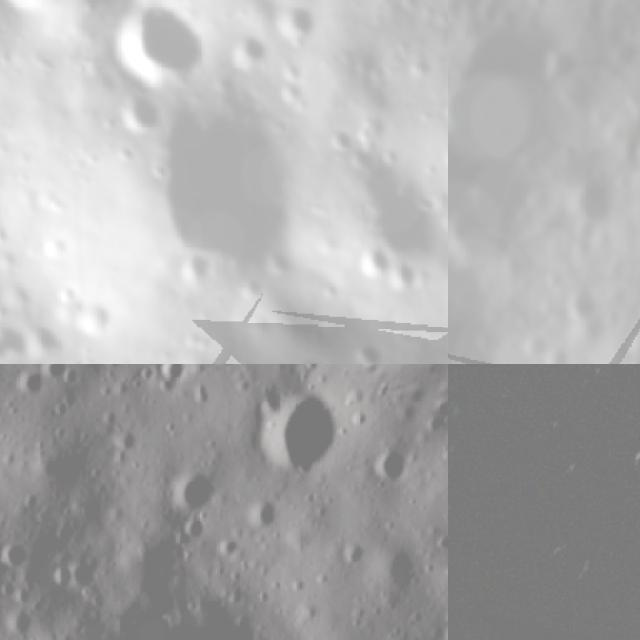crater: (0, 537, 408, 640), (159, 100, 307, 286), (346, 90, 448, 273), (228, 364, 362, 494), (448, 226, 546, 364), (110, 0, 217, 85), (357, 528, 435, 614), (553, 163, 629, 238), (156, 454, 231, 528), (534, 29, 597, 94), (554, 276, 614, 339), (359, 437, 417, 500), (539, 530, 594, 587), (233, 487, 288, 542), (111, 87, 167, 139), (528, 410, 581, 462), (597, 305, 640, 364), (461, 517, 508, 570), (78, 292, 124, 342), (232, 26, 279, 74), (491, 379, 539, 425), (273, 1, 322, 45), (0, 364, 51, 406), (140, 364, 197, 398), (325, 534, 371, 575), (176, 248, 216, 292), (612, 83, 640, 143), (26, 364, 82, 394), (393, 258, 430, 298), (358, 248, 398, 282), (0, 324, 33, 364), (351, 332, 386, 364), (327, 118, 356, 156), (606, 444, 638, 474), (620, 511, 640, 558), (483, 474, 512, 506), (200, 364, 249, 378), (616, 364, 640, 377), (631, 447, 640, 479)
